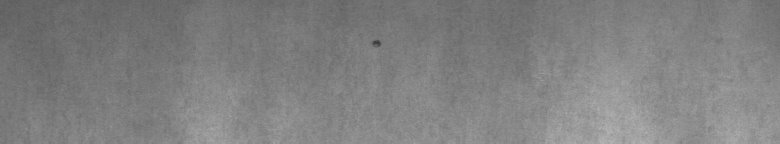fi: (371, 32, 382, 52)
